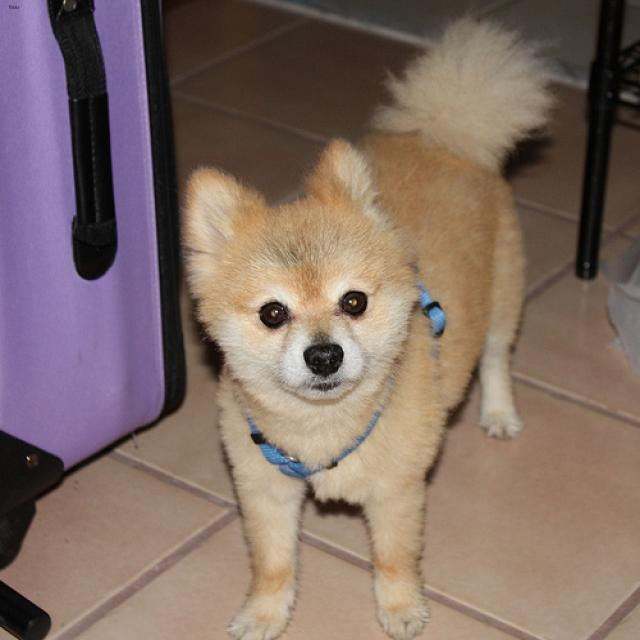dog-pomeranian: (175, 5, 566, 637)
